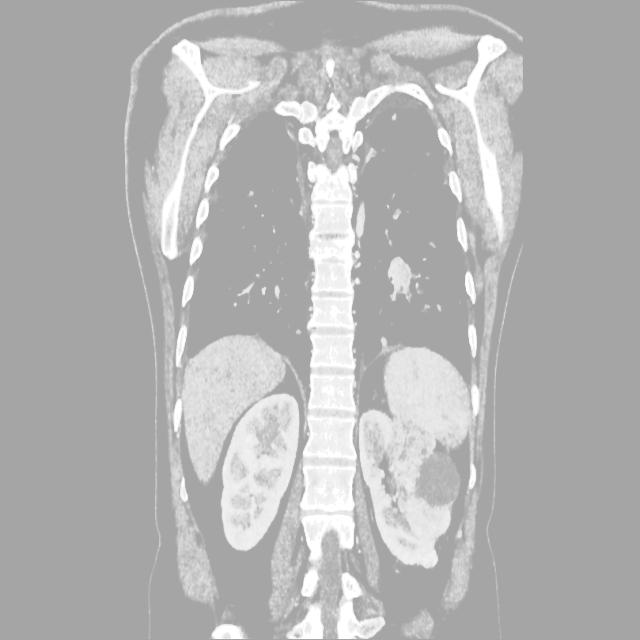TUMOR: (109, 284, 500, 547)
